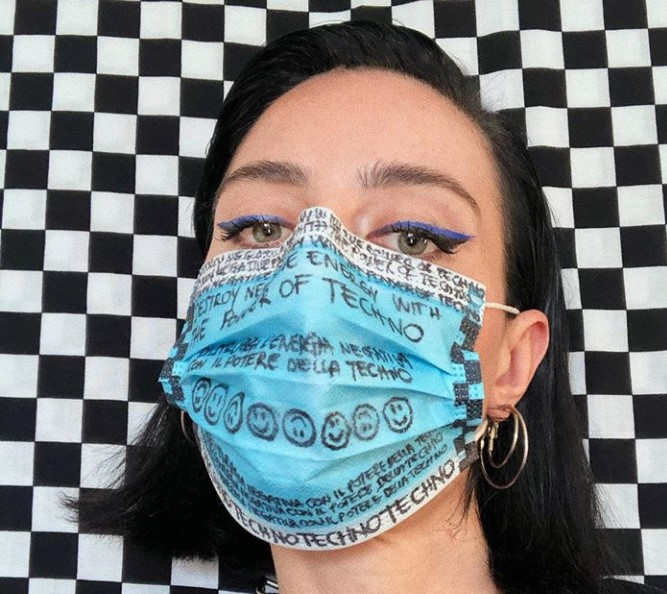face_with_mask: (161, 21, 553, 554)
